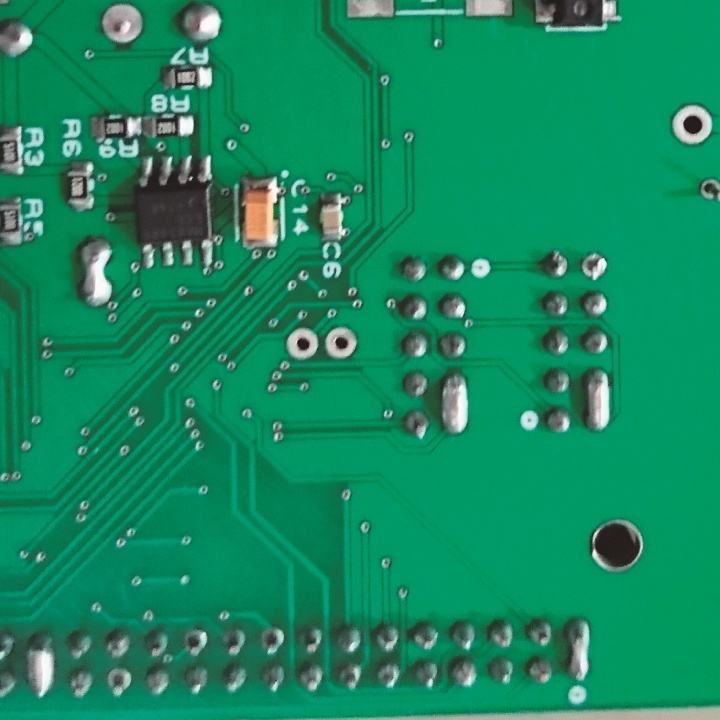F: (665, 102, 717, 147), (99, 3, 147, 47), (320, 323, 363, 363), (284, 322, 319, 361), (104, 663, 137, 700), (579, 250, 610, 282), (259, 623, 287, 658), (694, 171, 720, 208), (184, 626, 211, 659)
P: (77, 229, 116, 311), (24, 631, 63, 703), (439, 369, 473, 437), (584, 365, 616, 435), (567, 611, 596, 687)
